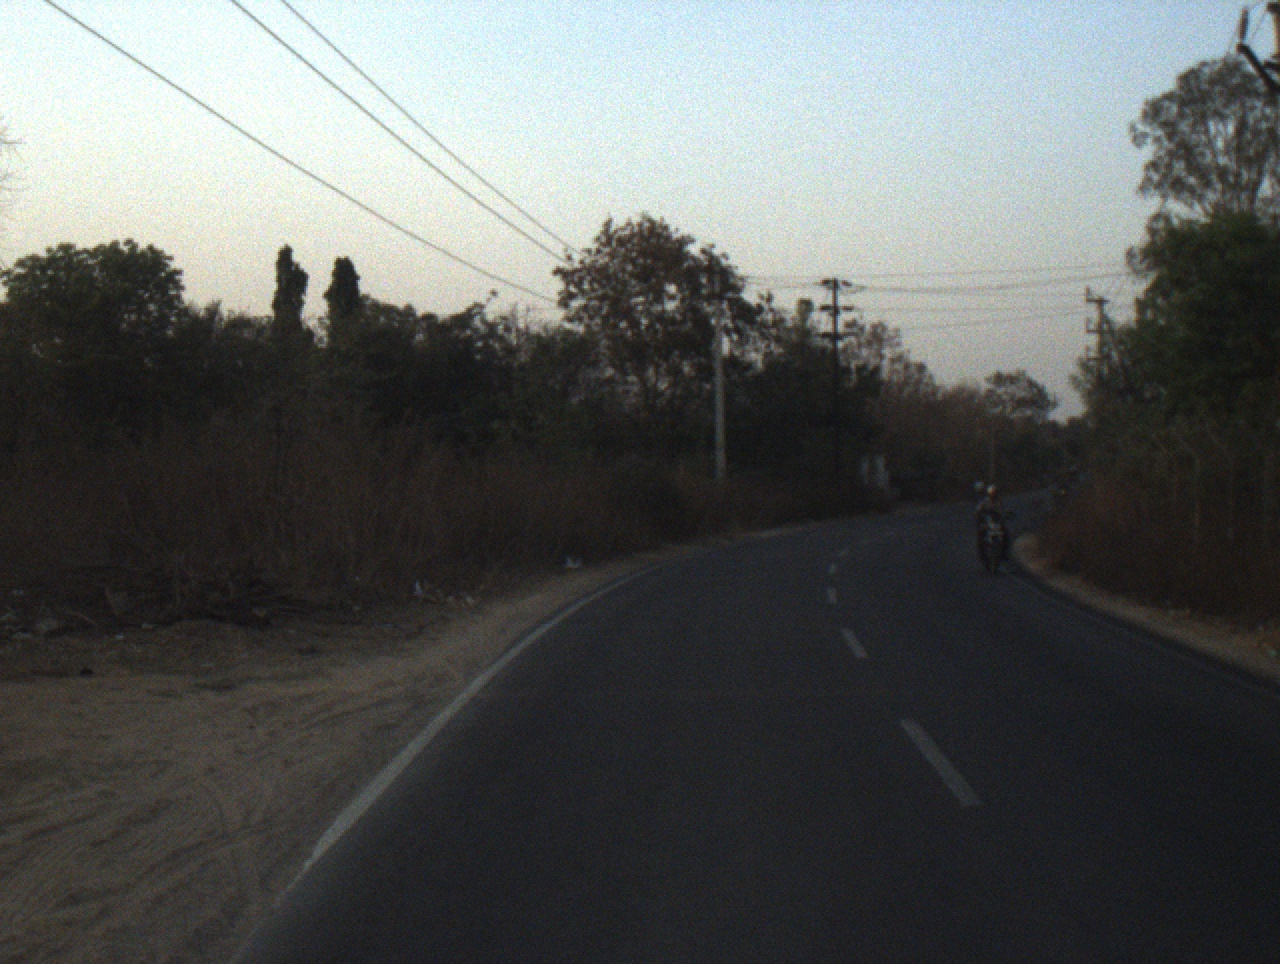autorickshaw: (1064, 462, 1081, 487)
motorcycle: (974, 510, 1016, 577)
rider: (973, 484, 1015, 568)
